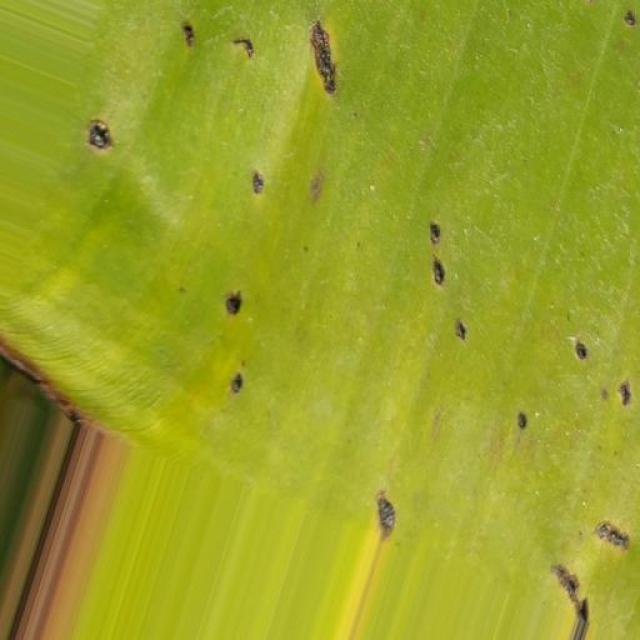Black_rot: (76, 19, 640, 640)
